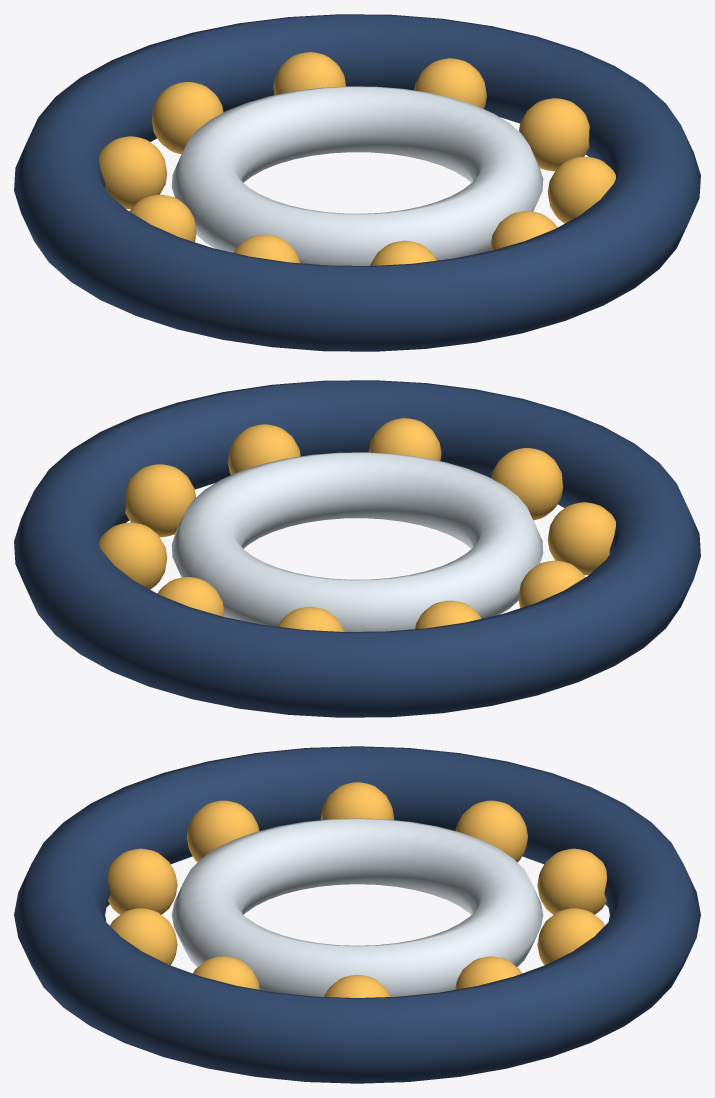
Rendered from ball-bearing-lite.glb.
The picture shows the model from 3 angles, top to bottom: view 1: azimuth 30°, elevation 25°; view 2: azimuth 150°, elevation 25°; view 3: azimuth 270°, elevation 25°; orthographic projection.
Parts seen in each view (by area): view 1: Outer race; view 2: Outer race; view 3: Outer race.
Part boxes in pixels (x1=…): Outer race: x1=14, y1=14, x2=700, y2=351; Outer race: x1=14, y1=380, x2=700, y2=717; Outer race: x1=14, y1=746, x2=700, y2=1083.
Size of the model in its own units: 1.96 by 0.26 by 1.96.
